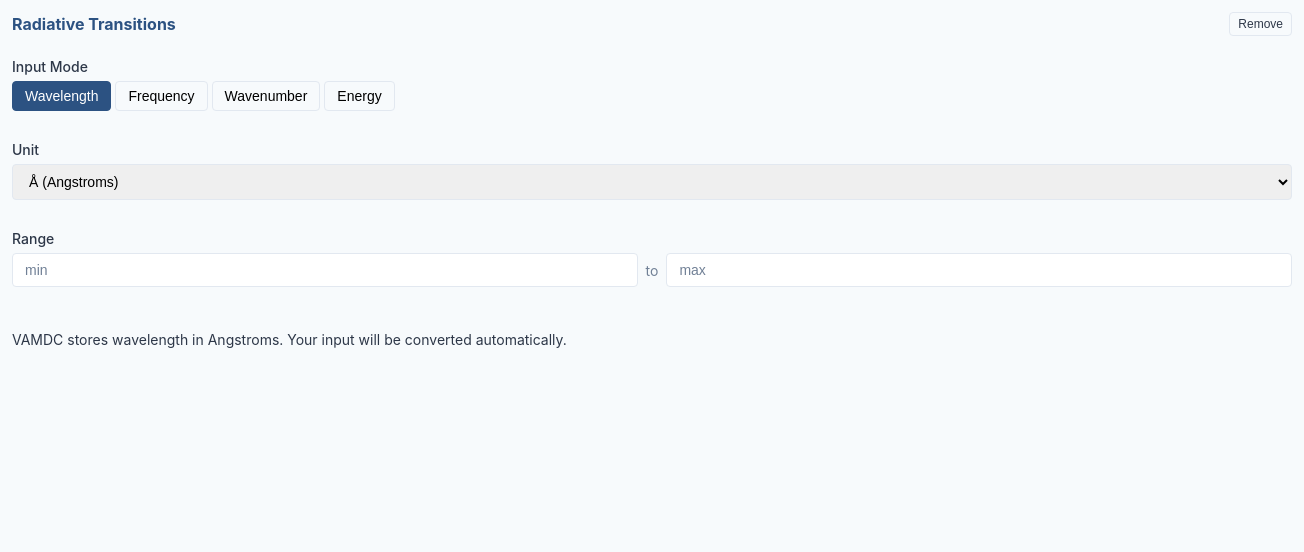
Test: RadiativeForm › shows conversion table when values are entered
Step 1. Type "5000" into the number field with placeholder "min" → {"x": 325, "y": 270}, box left=12, top=253, right=638, bottom=287
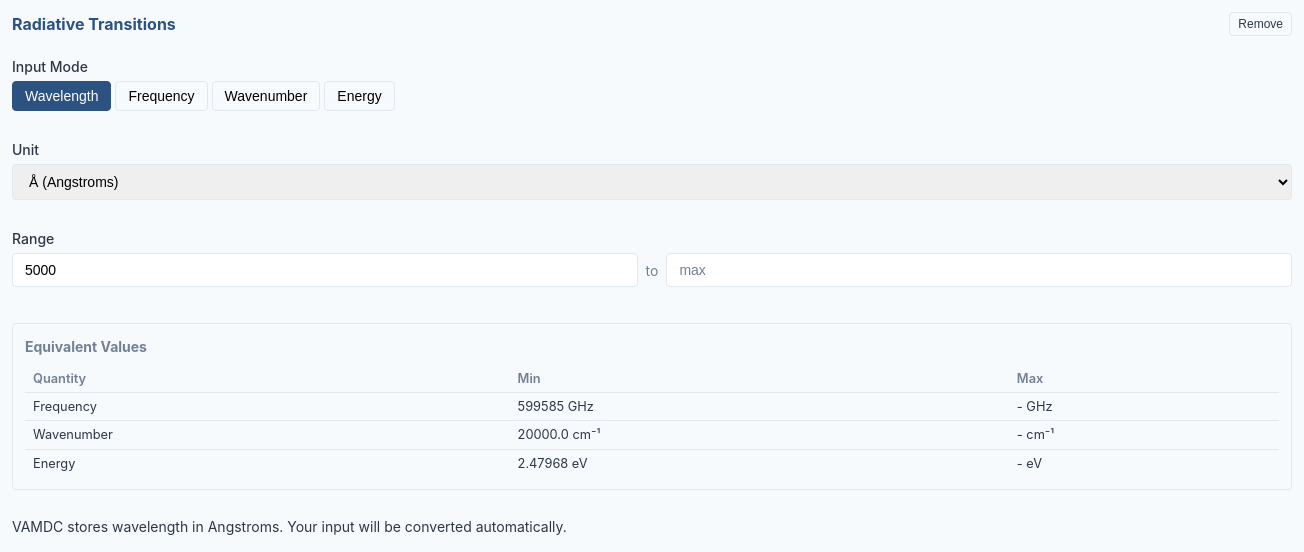
Check: the element with class "conversions" is shown, box left=12, top=323, right=1292, bottom=490
Check: the table with class "conversion-table" is shown, box left=25, top=365, right=1279, bottom=477
